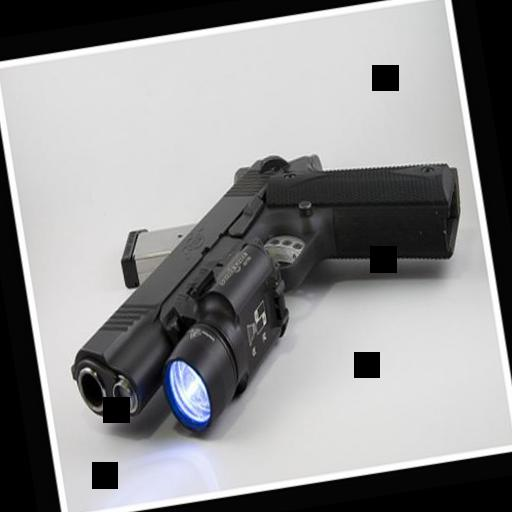Handgun: (38, 123, 492, 454)
